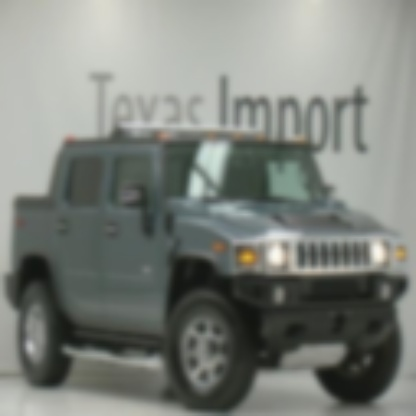Vehicle: (5, 126, 410, 412)
